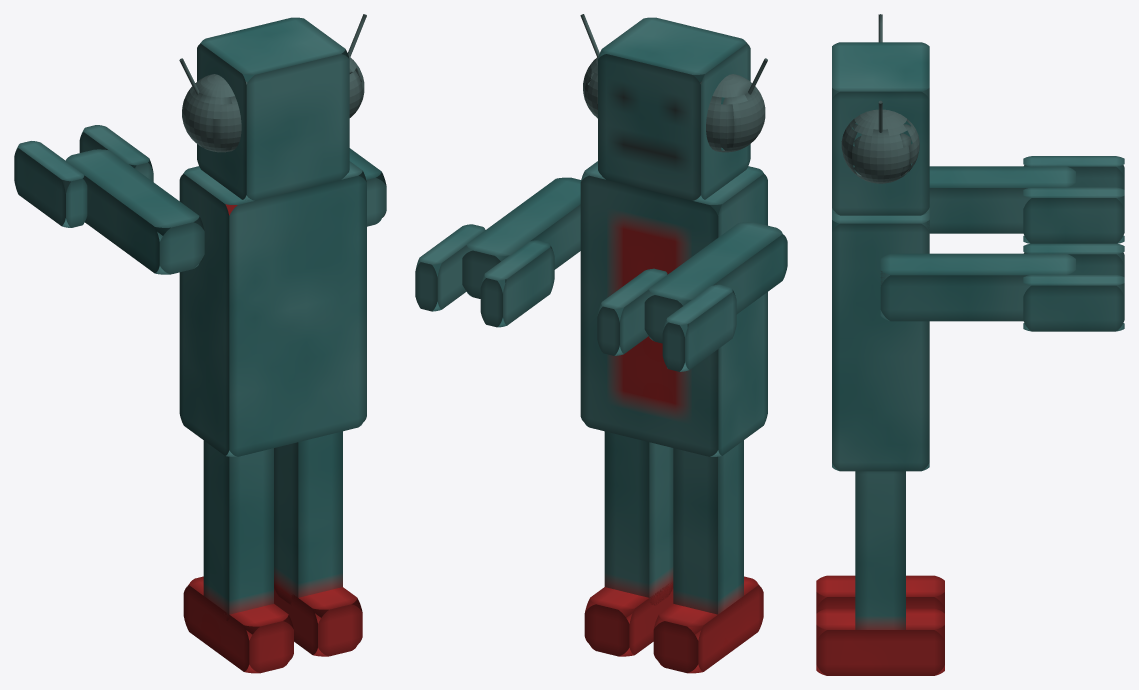
File: robot.fbx
3 renders of one model, left to right at view 1: azimuth 30°, elevation 25°; view 2: azimuth 150°, elevation 25°; view 3: azimuth 270°, elevation 25°, orthographic.
Parts seen in each view (by area): view 1: body, head, leg_1, leg, arm_1, foot_1, hand1_1, foot, leftEar, hand2_1, arm, rightEar; view 2: body, head, leg_1, leg, arm_1, arm, foot_1, hand1_1, foot, hand2, leftEar, hand1 (+2 smaller); view 3: body, head, arm, leg, arm_1, foot, hand1, hand2_1, rightEar, foot_1, hand1_1, hand2.
Boxes of the visible parts, bbox=[...] form: body: bbox=[179, 161, 366, 456]; head: bbox=[197, 17, 349, 200]; leg_1: bbox=[203, 440, 273, 620]; leg: bbox=[274, 431, 342, 605]; arm_1: bbox=[62, 149, 204, 274]; foot_1: bbox=[183, 576, 293, 673]; hand1_1: bbox=[14, 141, 87, 227]; foot: bbox=[274, 587, 362, 656]; leftEar: bbox=[182, 74, 247, 152]; hand2_1: bbox=[79, 125, 153, 181]; arm: bbox=[349, 148, 386, 226]; rightEar: bbox=[349, 56, 364, 117]; body: bbox=[580, 161, 767, 456]; head: bbox=[598, 17, 750, 200]; leg_1: bbox=[673, 440, 743, 614]; leg: bbox=[604, 431, 673, 605]; arm_1: bbox=[644, 222, 787, 343]; arm: bbox=[462, 177, 580, 298]; foot_1: bbox=[653, 576, 763, 673]; hand1_1: bbox=[662, 284, 736, 371]; foot: bbox=[584, 582, 673, 656]; hand2: bbox=[480, 240, 554, 327]; leftEar: bbox=[700, 74, 765, 152]; hand1: bbox=[415, 224, 485, 311]; body: bbox=[832, 211, 929, 471]; head: bbox=[832, 42, 929, 215]; arm: bbox=[880, 253, 1075, 321]; leg: bbox=[855, 471, 905, 629]; arm_1: bbox=[922, 166, 1075, 233]; foot: bbox=[816, 608, 944, 675]; hand1: bbox=[1023, 275, 1124, 331]; hand2_1: bbox=[1023, 187, 1124, 243]; rightEar: bbox=[841, 109, 919, 183]; foot_1: bbox=[816, 575, 944, 613]; hand1_1: bbox=[1023, 156, 1124, 198]; hand2: bbox=[1023, 243, 1124, 285].
Bounding box in the file's own units: 49.06 × 105 × 49.37.
1 material, 1 textured.
